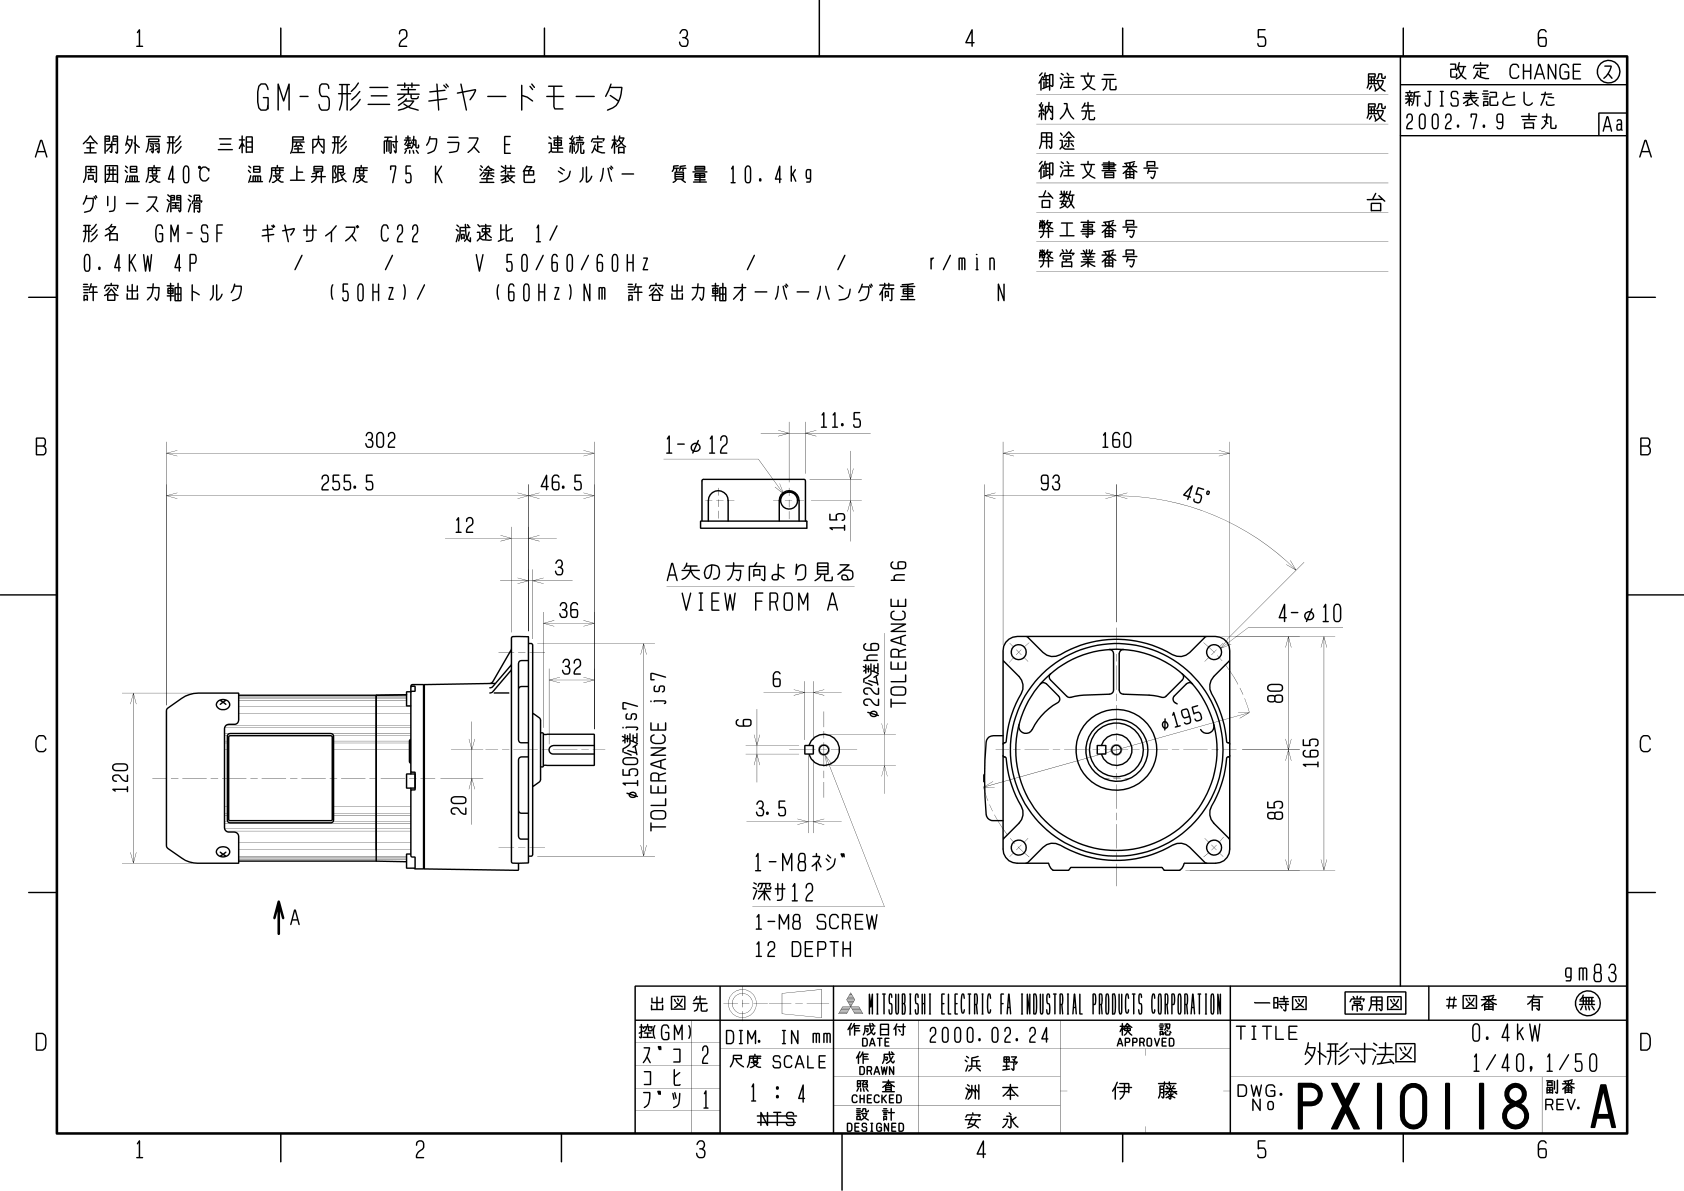GM_S_屋内＿三相_フランジ: (81, 378, 1367, 967)
